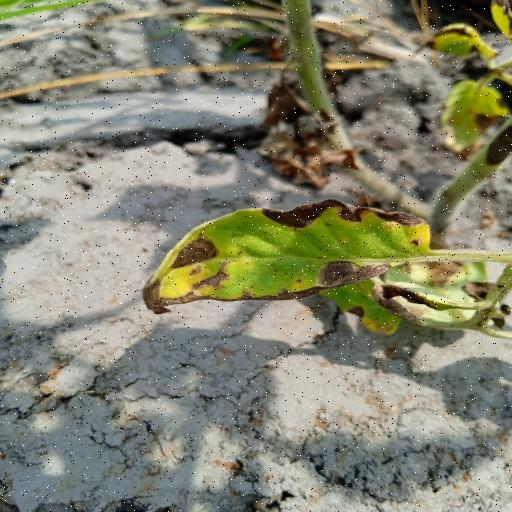Tomato_Brown_Spots: (145, 197, 442, 317)
